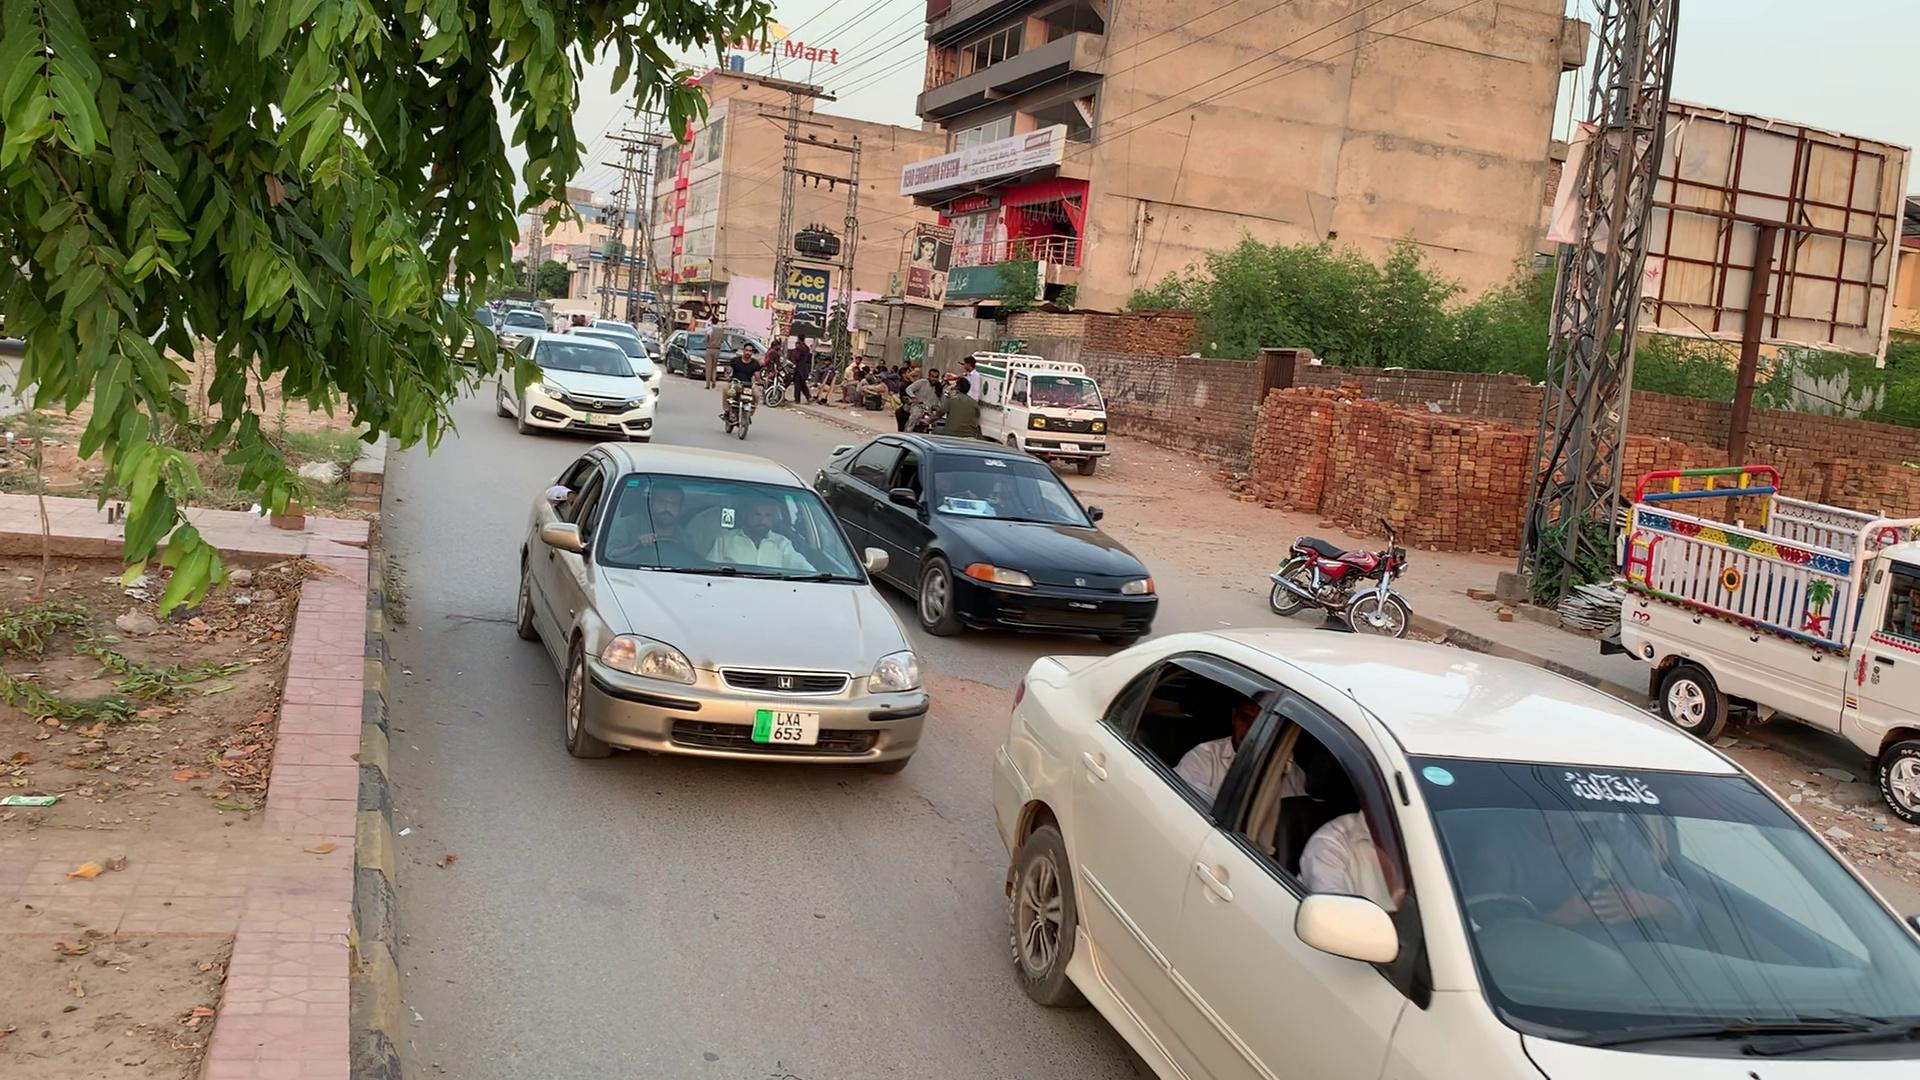windshield: (1404, 740, 1920, 1067), (591, 447, 870, 596)
